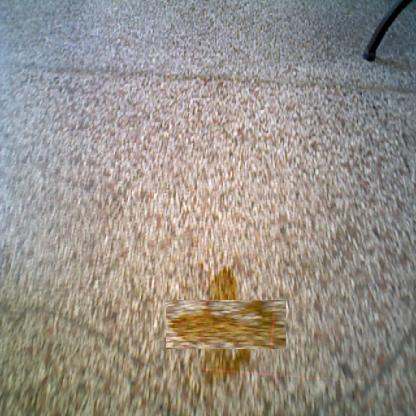liquid: (183, 282, 269, 366)
